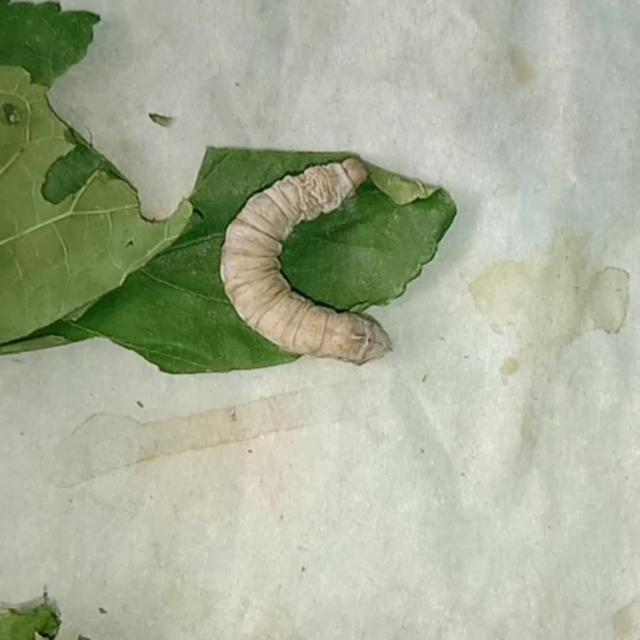Grasserie: (185, 104, 418, 409)
